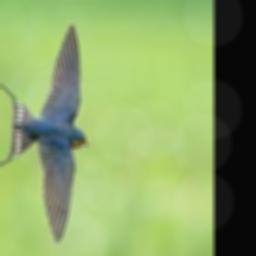Swallow: (0, 24, 89, 243)
